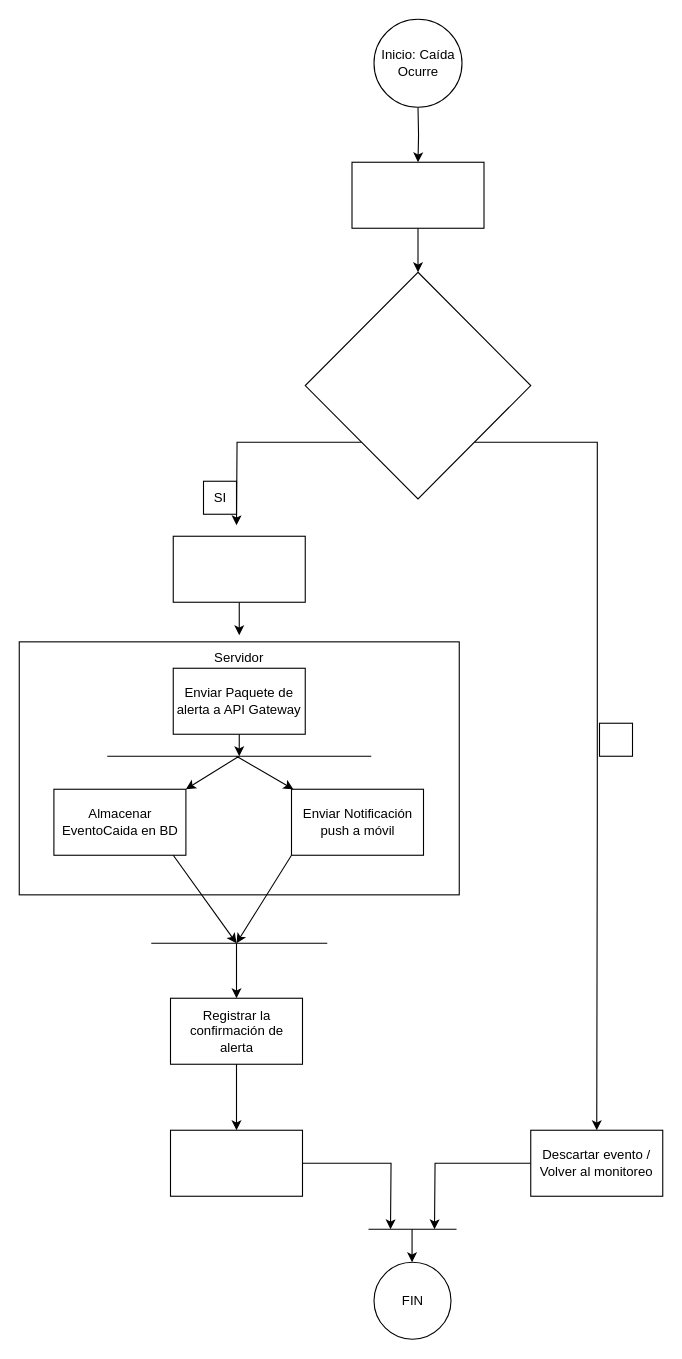
The diagram is 682 pixels wide and 1359 high, and some of its shapes have lost their labels. Each missing label, with the centre of its shape:
"Adquirir lectura de sensores" belongs at point 417,194.
"Adquirir Ubicación GPS precisa" belongs at point 238,568.
"Cuidador abre app y visualiza mapa" belongs at point 235,1162.
"NO" belongs at point 615,739.
"¿Datos cumplen con patrón de caída?" belongs at point 417,385.
